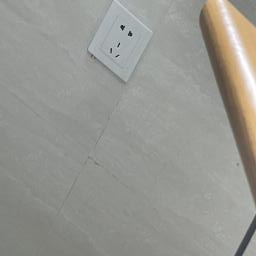outlet: (87, 0, 158, 85)
